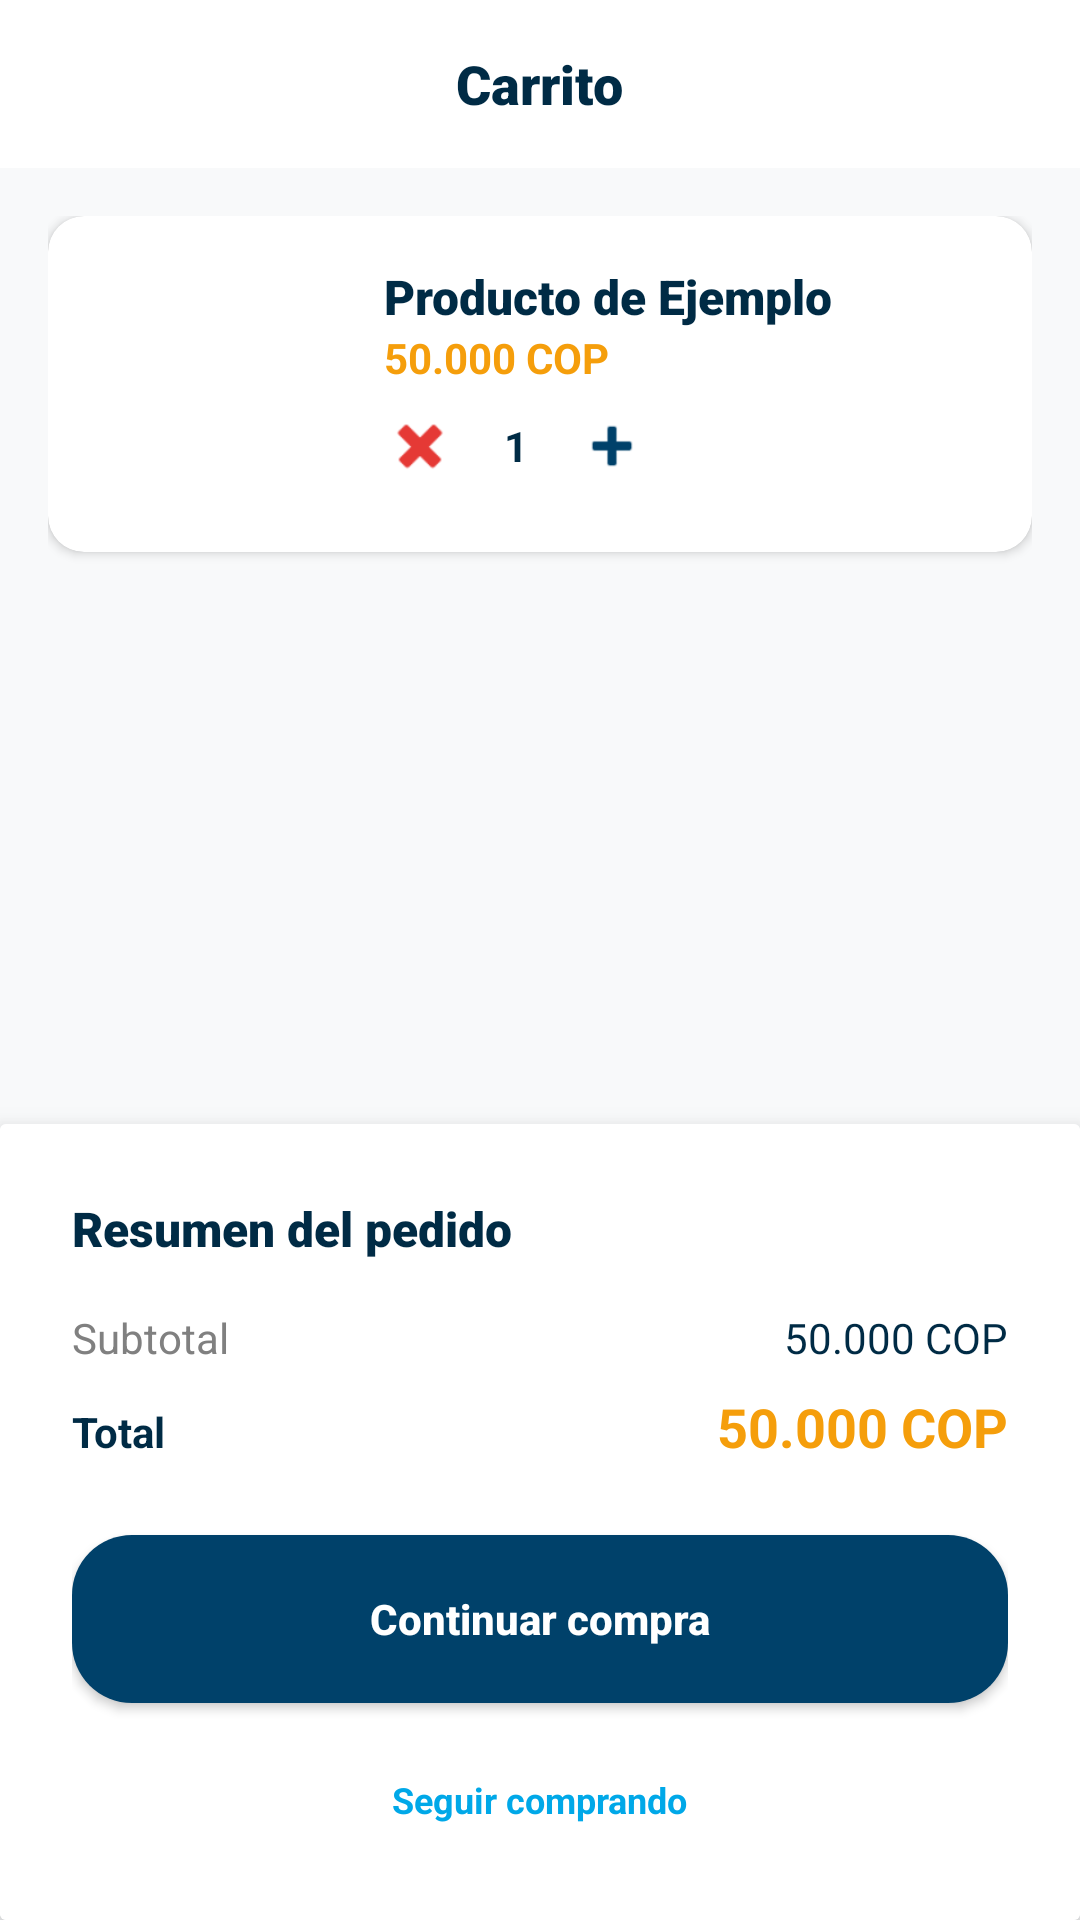

Icon bounding boxes for this 1080 x 1920 phone screenshot, format {"left": x1, "top": y1, "right": x2, "bottom": y2}:
add: {"left": 591, "top": 426, "right": 633, "bottom": 466}
delete: {"left": 397, "top": 424, "right": 443, "bottom": 469}
